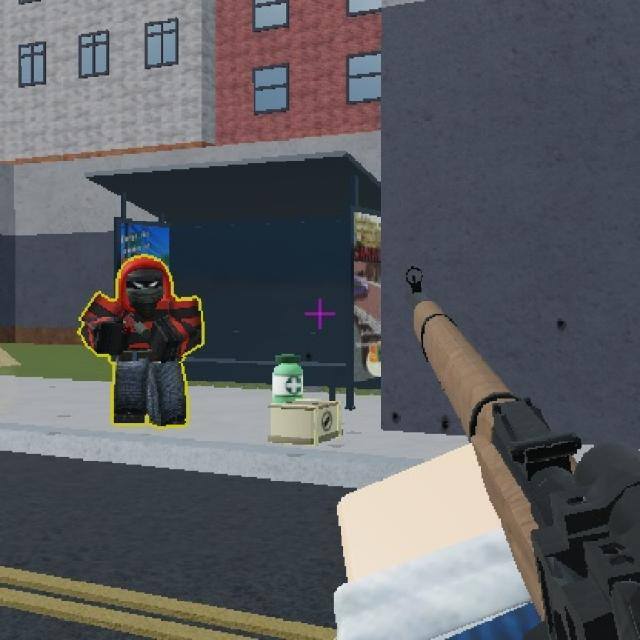player: (82, 254, 192, 431)
